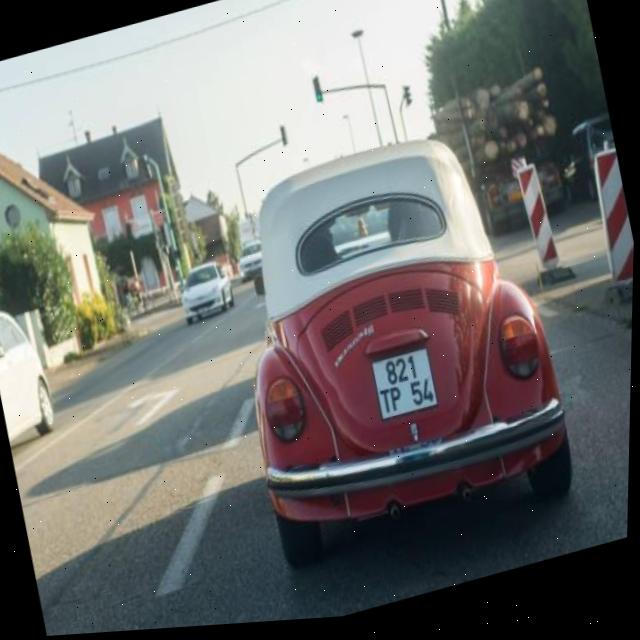vehicle: (222, 111, 587, 565), (0, 311, 60, 448), (173, 258, 239, 327)
